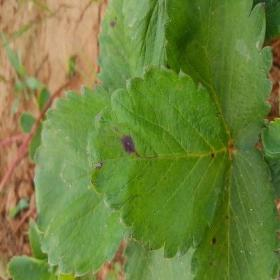Leaf Spot: (86, 64, 232, 259), (164, 0, 273, 148), (190, 145, 279, 279), (94, 0, 169, 94)
